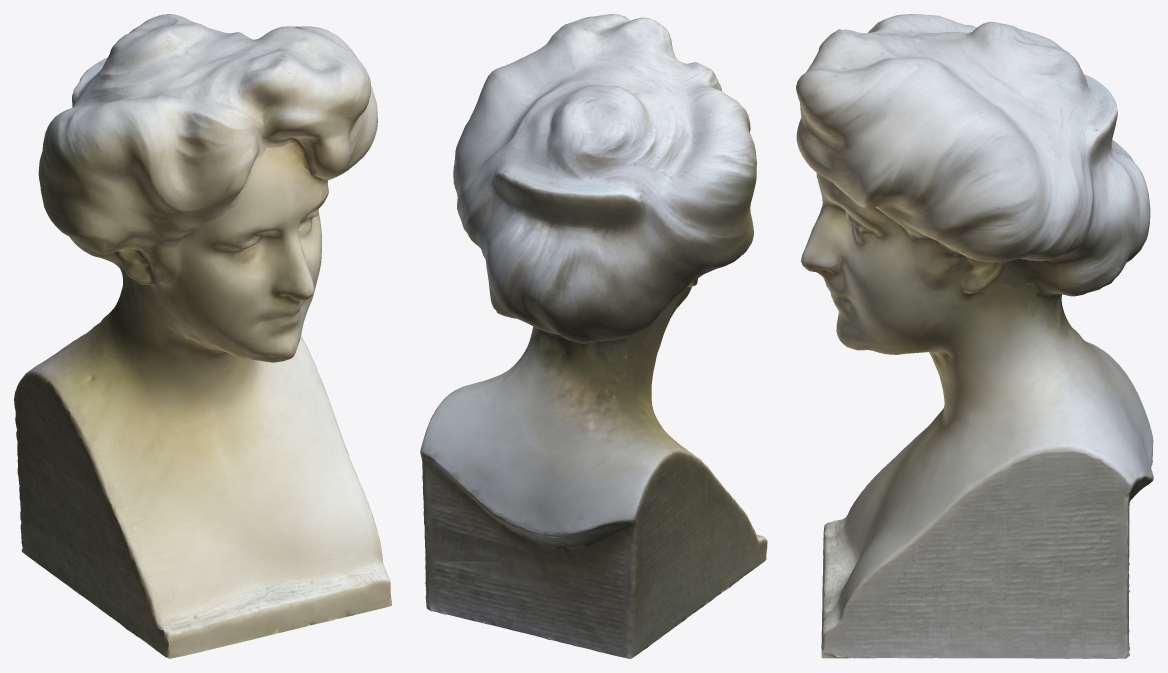
The model's file is lady-bust.glb.
The picture shows the model from 3 angles, left to right: view 1: azimuth 30°, elevation 25°; view 2: azimuth 150°, elevation 25°; view 3: azimuth 270°, elevation 25°; orthographic projection. The views are drawn at different scales.
Parts seen in each view (by area): view 1: Object_3; view 2: Object_3; view 3: Object_3.
Part boxes in pixels (x1,y1,x2,y2): Object_3: (14,14,391,658); Object_3: (420,14,767,658); Object_3: (796,14,1153,658).
Size of the model in its own units: 0.3639 by 0.6655 by 0.3736.
Materials: 1 (1 with a texture image).
